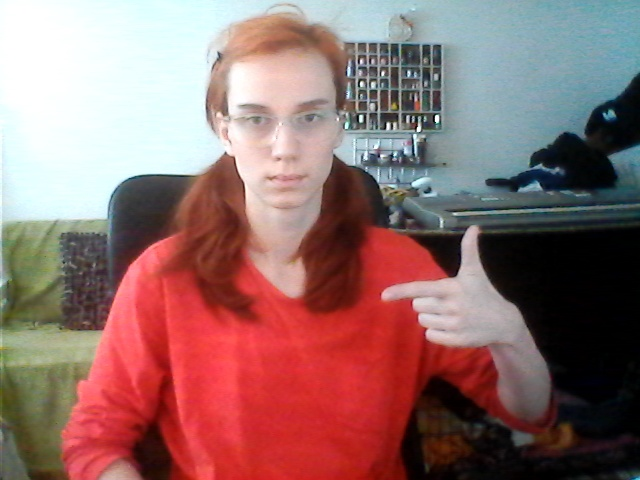dva_dve: (382, 223, 515, 361)
